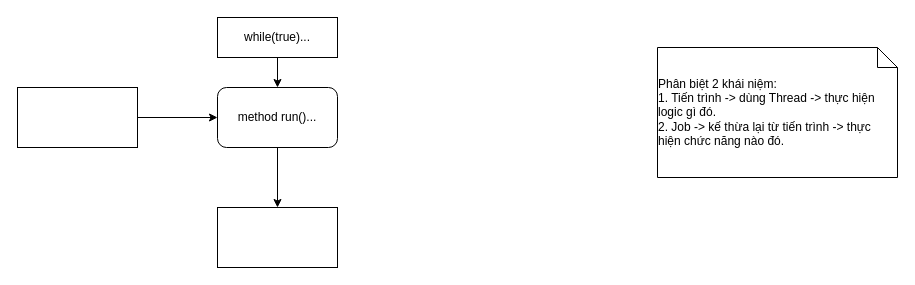
Some shapes in this 915 by 285 pixel diagram are drawn without their labels. Each missing label, with the centre of its shape:
"doWord() method chính thực hiện job" belongs at pixel 277 237.
"Other Class extend Thread" belongs at pixel 77 117.
